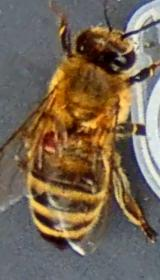varroa_mite: (40, 118, 68, 160)
